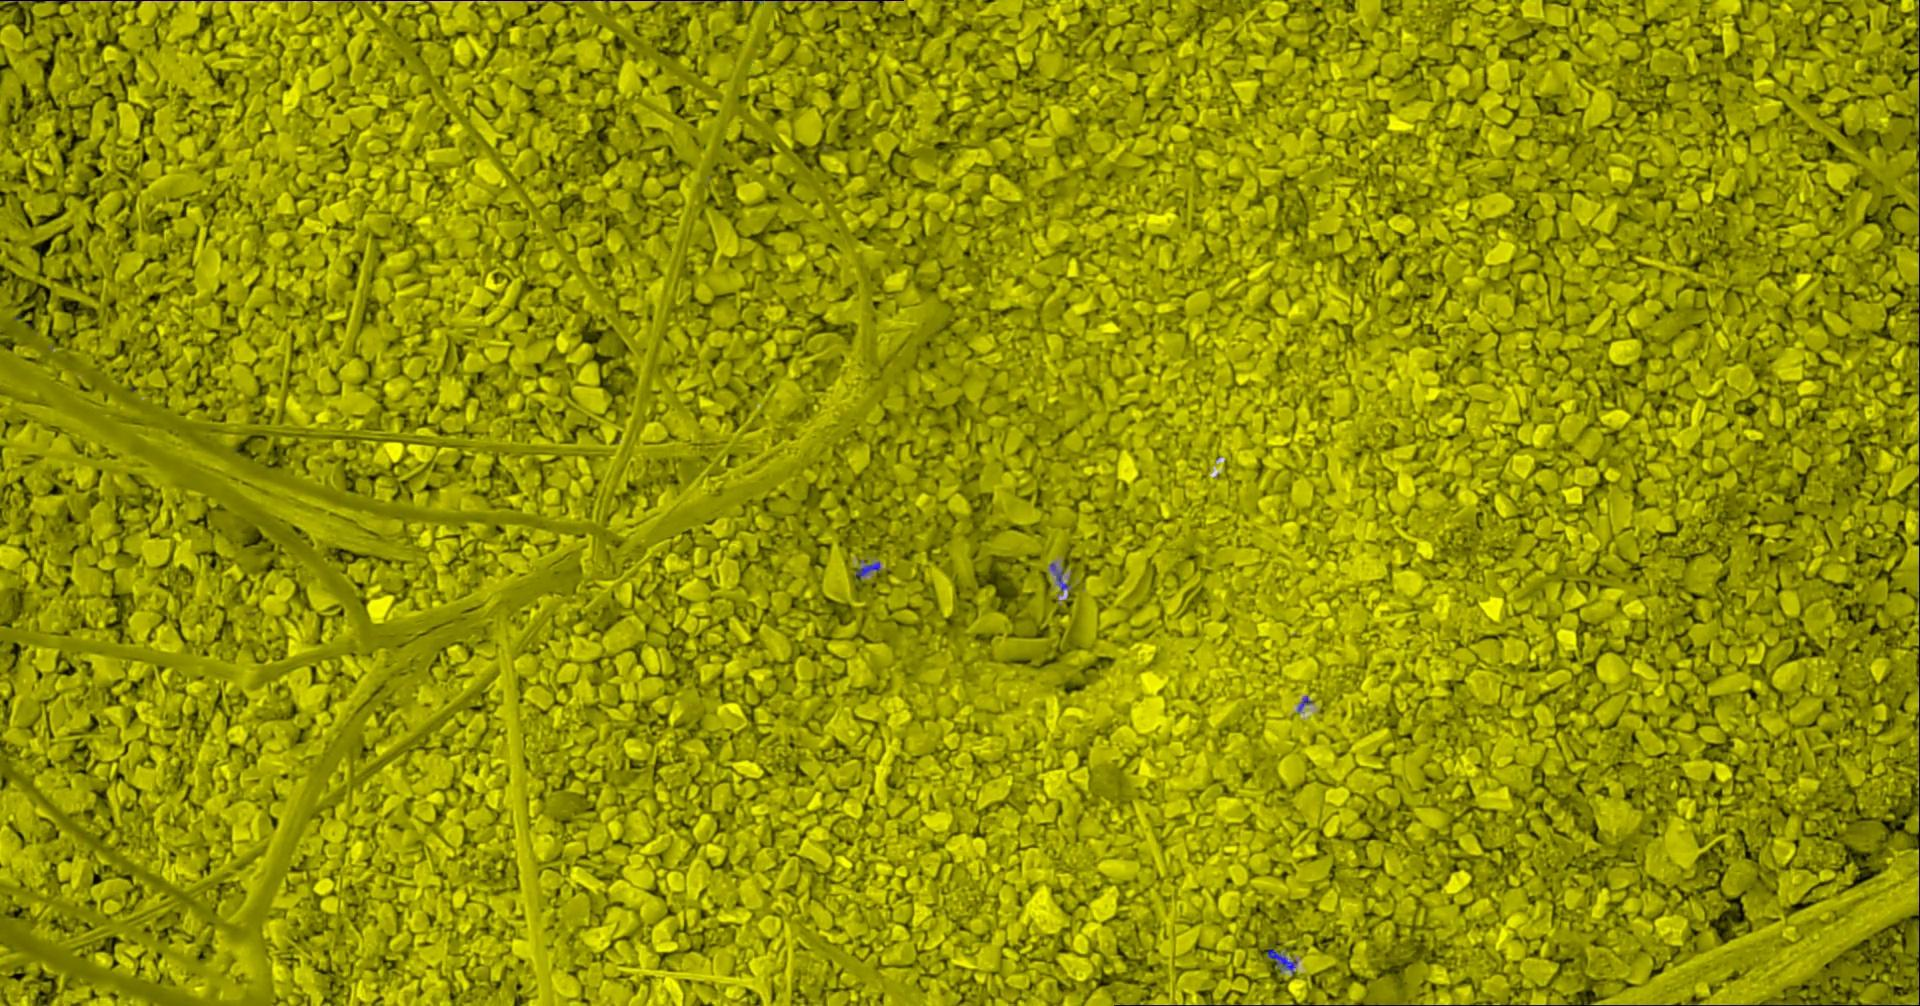ant: (1269, 948, 1298, 973), (857, 561, 881, 578), (1058, 568, 1070, 591)
